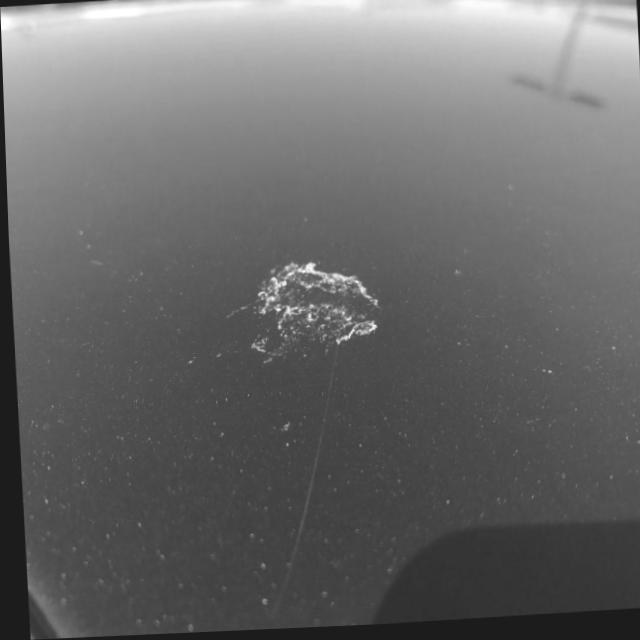Paint-Crack: (250, 252, 379, 365)
